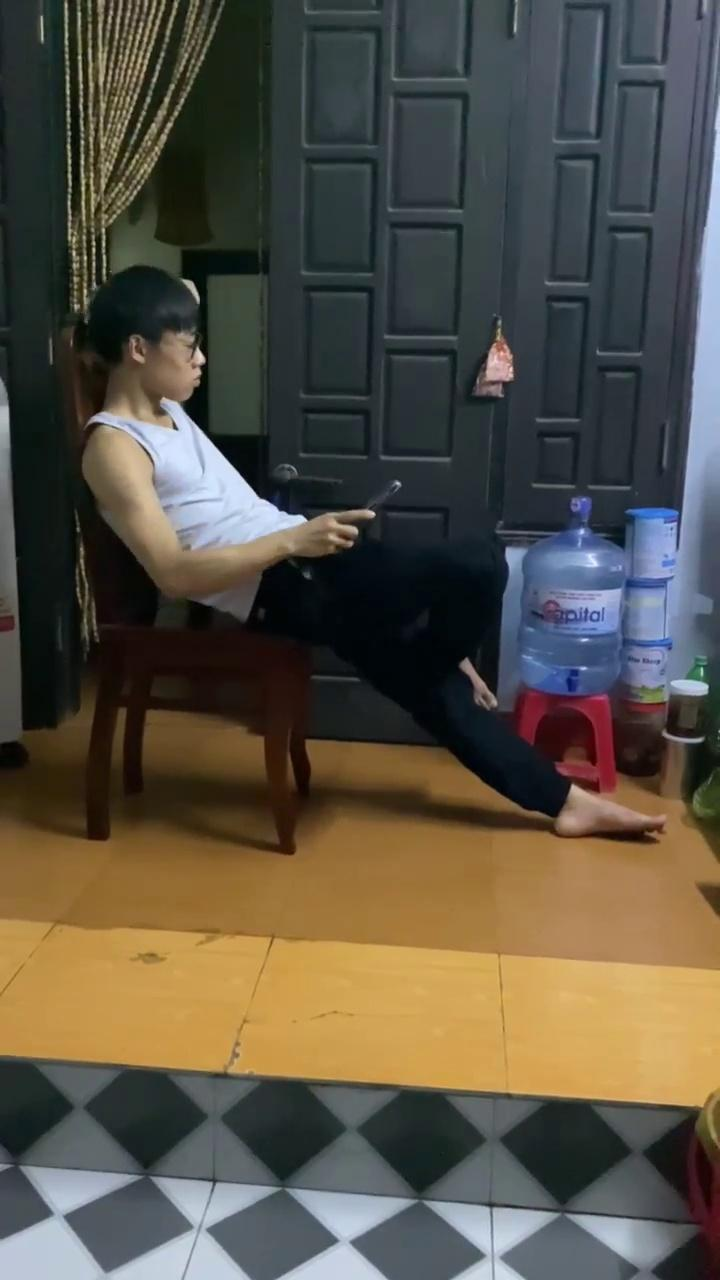BadPosture: (76, 266, 663, 837), (69, 265, 372, 638)
